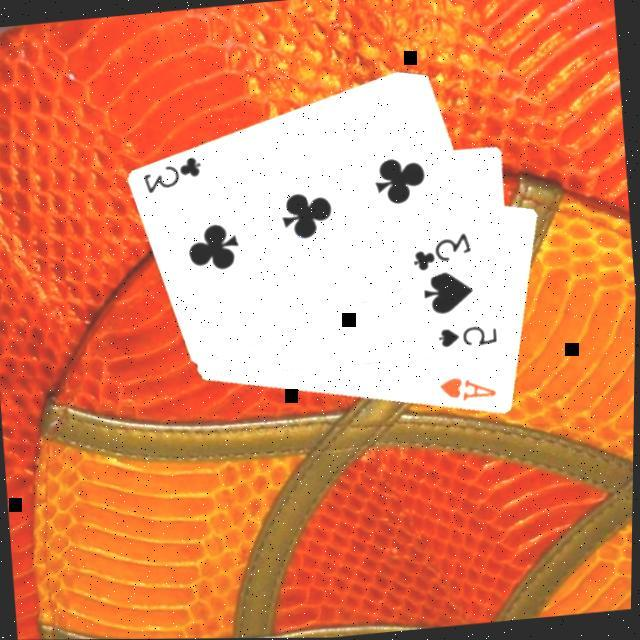3C: (407, 230, 477, 278), (138, 153, 208, 200)
5S: (435, 324, 501, 354)
AH: (436, 372, 501, 408)
